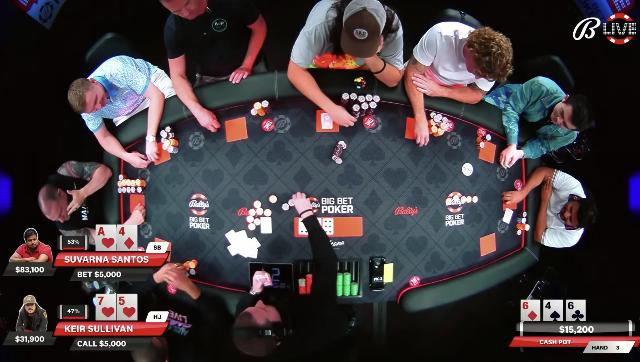4D: (117, 226, 137, 250)
4S: (544, 300, 562, 320)
5H: (118, 294, 136, 320)
6C: (567, 300, 585, 322)
6D: (522, 300, 540, 322)
7H: (96, 294, 116, 320)
AH: (96, 226, 116, 250)
